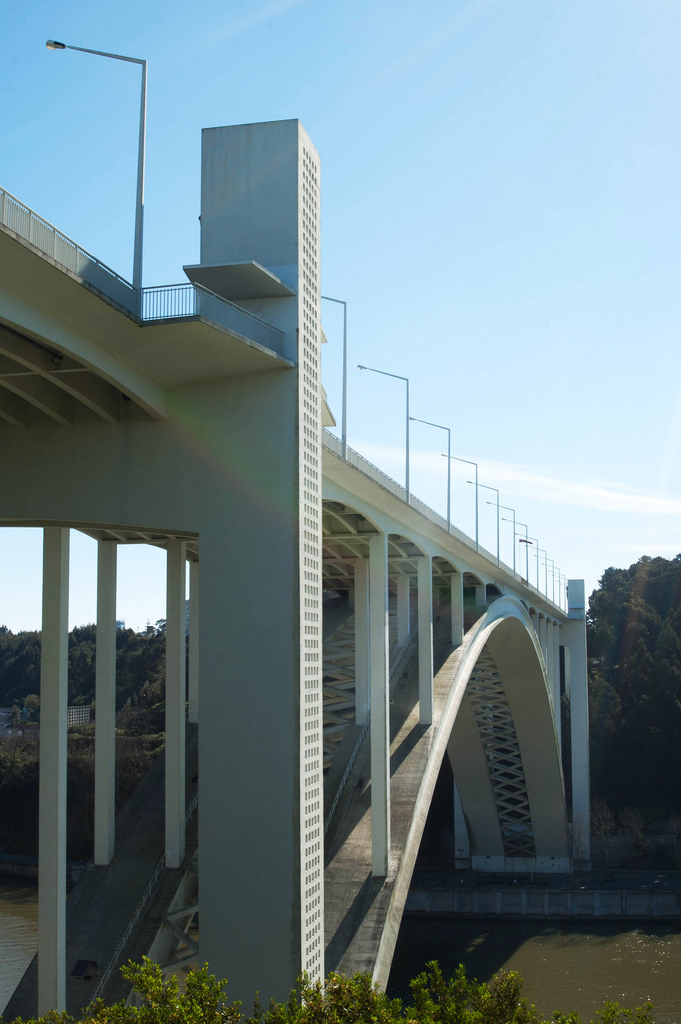arrabida: (0, 115, 592, 1023)
